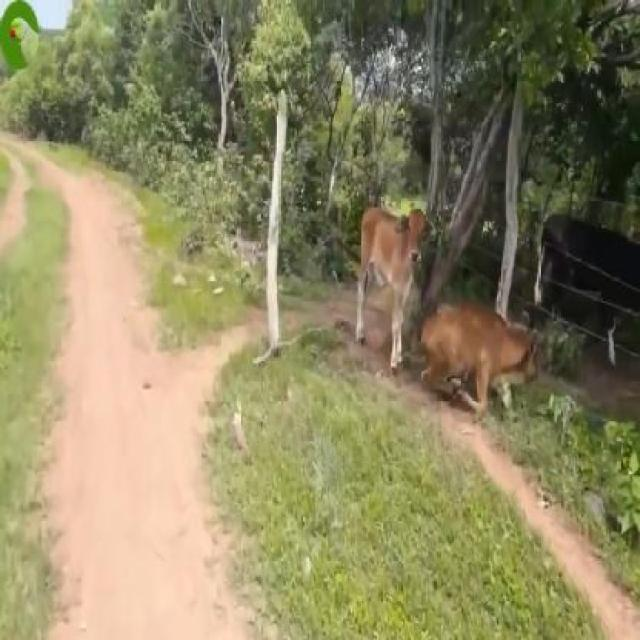Cow: (356, 208, 436, 378)
